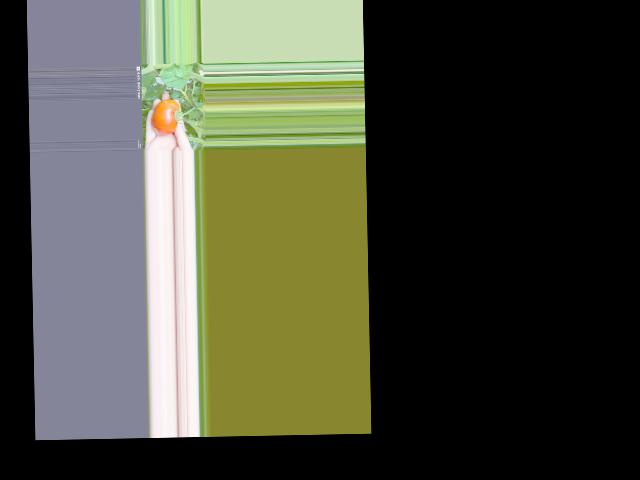tomato: (151, 99, 179, 135)
